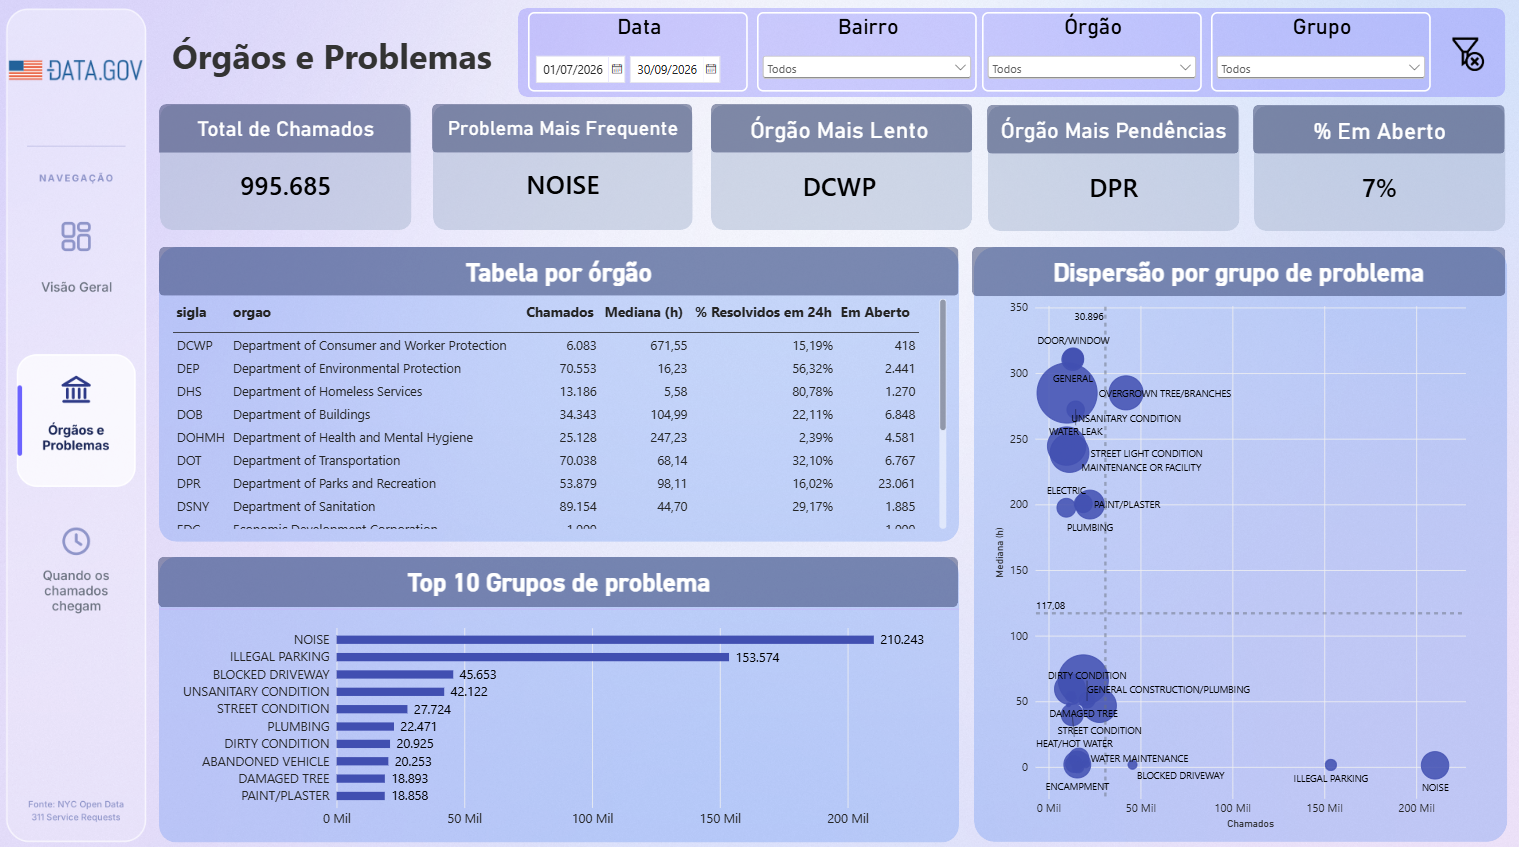

The dashboard page shown, as its layout file describes it:
{"tool":"powerbi","page":{"name":"Órgãos e Problemas","canvas":[1920,1080],"ordinal":1},"visuals":[{"type":"image","box":[0,0,1920,1079.5],"z":0},{"type":"shape","box":[552.4,137.7,326.4,157],"z":0,"group":"g3"},{"type":"shape","box":[901.4,137.7,327.9,157],"z":0,"group":"g5"},{"type":"shape","box":[208.8,137.9,316,157],"z":0,"group":"g1"},{"type":"shape","box":[1249.3,139.2,316,157],"z":0,"group":"g4"},{"type":"shape","box":[1583.6,139.2,316,157],"z":0,"group":"g2"},{"type":"shape","box":[659.3,15.8,1239.7,111.6],"z":1000},{"type":"shape","box":[551.6,136.4,326.7,61.5],"z":1000,"group":"g3"},{"type":"shape","box":[901.4,136.4,328.1,61.5],"z":1000,"group":"g5"},{"type":"shape","box":[208,136.6,316.3,61.5],"z":1000,"group":"g1"},{"type":"shape","box":[1248.5,137.9,316.3,61.5],"z":1000,"group":"g4"},{"type":"shape","box":[1582.8,137.9,316.3,61.5],"z":1000,"group":"g2"},{"type":"card","title":"Problema Mais Frequente","fields":{"Values":["Medidas.Problema Mais Frequente"]},"box":[552.4,137.7,326.4,157.6],"z":2000,"group":"g3"},{"type":"card","title":"Órgão Mais Lento","fields":{"Values":["Medidas.Órgão Mais Lento"]},"box":[899.3,137.7,327.9,157.6],"z":2000,"group":"g5"},{"type":"card","title":"Total de Chamados","fields":{"Values":["Medidas.Chamados"]},"box":[208.8,137.9,316,157.6],"z":2000,"group":"g1"},{"type":"card","title":"Órgão Mais Pendências","fields":{"Values":["Medidas.Órgão Mais Pendências"]},"box":[1249.3,139.2,316,157.6],"z":2000,"group":"g4"},{"type":"card","title":"% Em Aberto","fields":{"Values":["Medidas.% Em Aberto"]},"box":[1583.6,139.2,316,157.6],"z":2000,"group":"g2"},{"type":"shape","box":[208.8,316.5,1004.7,370.3],"z":2000},{"type":"shape","box":[208.8,705.2,1004.7,358.5],"z":3000},{"type":"shape","box":[1231.8,316.5,669.8,747.3],"z":4000},{"type":"group","id":"g1","title":"TOTAL DE CHAMADOS:","box":[208,136.6,316.8,158.9],"z":5000},{"type":"group","id":"g2","title":"EM ABERTO","box":[1582.8,137.9,317.8,158.9],"z":6000},{"type":"group","id":"g3","title":"% FECHADOS","box":[551.6,136.4,328.2,158.9],"z":7000},{"type":"group","id":"g4","title":"% RESOLVIDOS EM 24H","box":[1248.5,137.9,317.8,158.9],"z":8000},{"type":"group","id":"g5","title":"MEDIANA (H)","box":[899.3,136.4,331.2,158.9],"z":9000},{"type":"textbox","box":[224.6,46,434.7,67],"z":10000},{"type":"shape","box":[208.3,316.3,1004.2,61.5],"z":11000},{"type":"tableEx","title":"Tabela por órgão","fields":{"Values":["dOrgao.sigla","dOrgao.orgao","Medidas.Chamados","Medidas.Mediana (h)","Medidas.% Resolvidos em 24h","Medidas.Em Aberto"]},"box":[208.8,316.5,1004.7,370.3],"z":12000},{"type":"shape","box":[207.5,705.2,1004.7,63],"z":13000},{"type":"barChart","title":"Top 10 Grupos de problema","fields":{"Category":["dTipo.grupo","dTipo.tipo"],"Y":["Medidas.Chamados"]},"box":[208.8,705.2,1004.7,358.5],"z":14000},{"type":"shape","box":[1229.2,316.5,669.8,61.7],"z":15000},{"type":"scatterChart","title":"Dispersão por grupo de problema","fields":{"Category":["dTipo.grupo"],"Size":["Medidas.Em Aberto"],"X":["Medidas.Chamados"],"Y":["Medidas.Mediana (h)"]},"box":[1241,316.5,647.4,747.3],"z":16000},{"type":"slicer","title":"Data","fields":{"Values":["dCalendario.data"]},"box":[672.4,21,275.8,100],"z":17000},{"type":"slicer","title":"Bairro","fields":{"Values":["fChamados.borough"]},"box":[960,21,275.8,100],"z":18000},{"type":"slicer","title":"Órgão","fields":{"Values":["dOrgao.sigla"]},"box":[1242.4,21,275.8,100],"z":19000},{"type":"slicer","title":"Grupo","fields":{"Values":["dTipo.grupo"]},"box":[1530,21,275.8,100],"z":20000},{"type":"image","box":[1808.4,36.8,81.4,69.6],"z":21000},{"type":"image","title":"Visão Geral","box":[0,15.8,208.8,1048],"z":22000},{"type":"image","box":[17.1,21,172,145.8],"z":23000},{"type":"shape","box":[18.4,215.4,172,172],"z":23001},{"type":"shape","box":[17.1,633,172,172],"z":23002}]}

Visuals, with their boxes on the page's 1920x1080 design canvas (x1, y1, x2, y2). These are canvas units, not pixel positions in the 1519x847 screenshot, which may show the page scaled, cropped or inside an application window:
image: (0, 0, 1920, 1080)
shape: (552, 138, 879, 295)
shape: (901, 138, 1229, 295)
shape: (209, 138, 525, 295)
shape: (1249, 139, 1565, 296)
shape: (1584, 139, 1900, 296)
shape: (659, 16, 1899, 127)
shape: (552, 136, 878, 198)
shape: (901, 136, 1230, 198)
shape: (208, 137, 524, 198)
shape: (1248, 138, 1565, 199)
shape: (1583, 138, 1899, 199)
"Problema Mais Frequente" card: (552, 138, 879, 295)
"Órgão Mais Lento" card: (899, 138, 1227, 295)
"Total de Chamados" card: (209, 138, 525, 296)
"Órgão Mais Pendências" card: (1249, 139, 1565, 297)
"% Em Aberto" card: (1584, 139, 1900, 297)
shape: (209, 316, 1214, 687)
shape: (209, 705, 1214, 1064)
shape: (1232, 316, 1902, 1064)
"TOTAL DE CHAMADOS:" group: (208, 137, 525, 296)
"EM ABERTO" group: (1583, 138, 1901, 297)
"% FECHADOS" group: (552, 136, 880, 295)
"% RESOLVIDOS EM 24H" group: (1248, 138, 1566, 297)
"MEDIANA (H)" group: (899, 136, 1230, 295)
textbox: (225, 46, 659, 113)
shape: (208, 316, 1212, 378)
"Tabela por órgão" tableEx: (209, 316, 1214, 687)
shape: (208, 705, 1212, 768)
"Top 10 Grupos de problema" barChart: (209, 705, 1214, 1064)
shape: (1229, 316, 1899, 378)
"Dispersão por grupo de problema" scatterChart: (1241, 316, 1888, 1064)
"Data" slicer: (672, 21, 948, 121)
"Bairro" slicer: (960, 21, 1236, 121)
"Órgão" slicer: (1242, 21, 1518, 121)
"Grupo" slicer: (1530, 21, 1806, 121)
image: (1808, 37, 1890, 106)
"Visão Geral" image: (0, 16, 209, 1064)
image: (17, 21, 189, 167)
shape: (18, 215, 190, 387)
shape: (17, 633, 189, 805)
